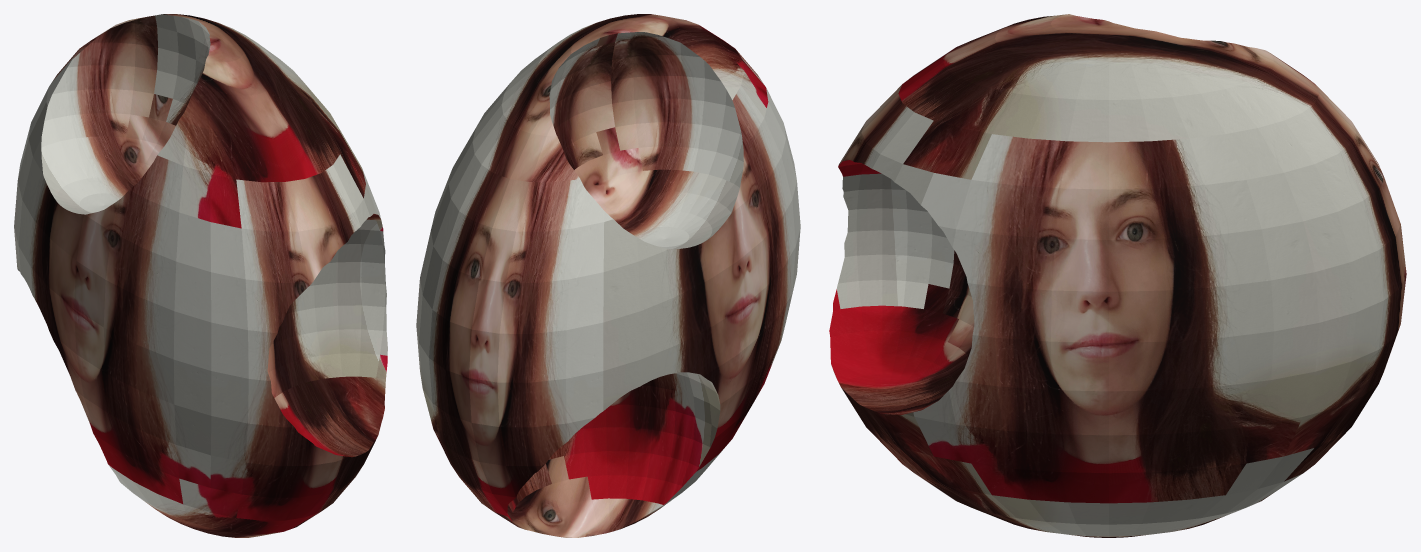
File: boss.obj
3 views of the same model, side by side, from view 1: azimuth 30°, elevation 25°; view 2: azimuth 150°, elevation 25°; view 3: azimuth 270°, elevation 25° (orthographic). The views are drawn at different scales.
Parts seen in each view (by area): view 1: Sfera.001; view 2: Sfera.001; view 3: Sfera.001.
Part boxes in pixels (x1,y1,x2,y2): Sfera.001: (14,14,387,537); Sfera.001: (416,14,800,537); Sfera.001: (829,14,1406,537).
Bounding box in the file's own units: 5.92 × 10.23 × 10.49.
